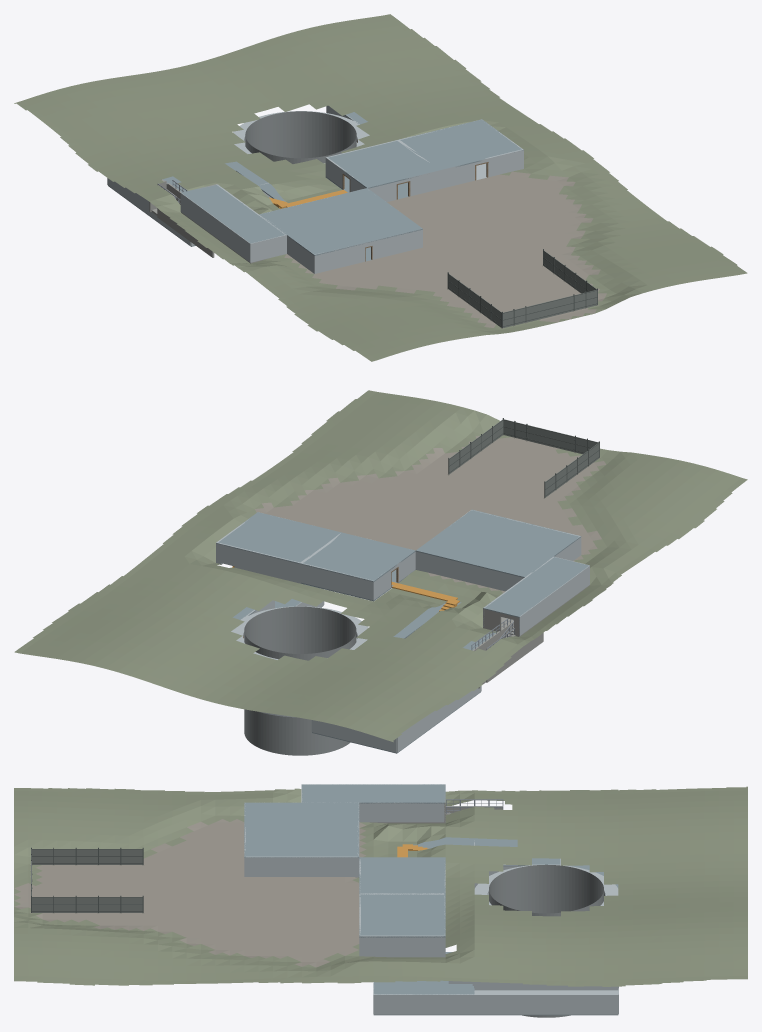
Rendered from facility.glb.
3 renders of one model, top to bottom at view 1: azimuth 30°, elevation 25°; view 2: azimuth 150°, elevation 25°; view 3: azimuth 270°, elevation 25°, orthographic. The views are drawn at different scales.
Parts seen in each view (by area): view 1: Saved editor geographic earthworks WLD-18, Ceiling cap servicehouse, EMPTY SHAFT / guard engineering pending, Ceiling cap shop, Ceiling cap head, Ceiling cap exit, Wall exit W, WLD-18 clean servicehouse S pier0, WLD-18 clean servicehouse S end, Wall exit S, WLD-18 clean shop S end, WLD-18 clean shop S pier0 (+2 smaller); view 2: Saved editor geographic earthworks WLD-18, EMPTY SHAFT / guard engineering pending, Ceiling cap servicehouse, Ceiling cap shop, Ceiling cap head, Ceiling cap exit, WLD-18 clean servicehouse N end, WLD-18 clean shop N end, WLD-18 clean head N end, Wall exit W, Wall pump N, Wall pump W (+1 smaller); view 3: Saved editor geographic earthworks WLD-18, Ceiling cap servicehouse, EMPTY SHAFT / guard engineering pending, Ceiling cap shop, Ceiling cap head, Wall east E, Ceiling cap exit, WLD-18 clean servicehouse E end, Wall plant E, WLD-18 clean shop E end, WLD-18 clean exit E pier0, Ceiling cap plant (+3 smaller).
Part boxes in pixels (x1,y1,x2,y2): Saved editor geographic earthworks WLD-18: [14, 14, 747, 361]; Ceiling cap servicehouse: [259, 188, 422, 255]; EMPTY SHAFT / guard engineering pending: [245, 111, 356, 163]; Ceiling cap shop: [398, 119, 523, 170]; Ceiling cap head: [328, 141, 438, 188]; Ceiling cap exit: [181, 184, 286, 243]; Wall exit W: [180, 193, 250, 262]; WLD-18 clean servicehouse S pier0: [313, 243, 364, 273]; WLD-18 clean servicehouse S end: [372, 229, 422, 259]; Wall exit S: [250, 234, 286, 262]; WLD-18 clean shop S end: [488, 149, 523, 177]; WLD-18 clean shop S pier0: [439, 163, 474, 188]; Saved editor geographic earthworks WLD-18: [14, 390, 747, 742]; EMPTY SHAFT / guard engineering pending: [244, 606, 356, 755]; Ceiling cap servicehouse: [415, 509, 580, 577]; Ceiling cap shop: [216, 512, 342, 564]; Ceiling cap head: [301, 533, 415, 582]; Ceiling cap exit: [483, 557, 589, 617]; WLD-18 clean servicehouse N end: [415, 551, 523, 591]; WLD-18 clean shop N end: [216, 542, 300, 582]; WLD-18 clean head N end: [301, 563, 374, 600]; Wall exit W: [519, 565, 589, 635]; Wall pump N: [311, 720, 396, 752]; Wall pump W: [397, 709, 439, 752]; Saved editor geographic earthworks WLD-18: [14, 786, 747, 986]; Ceiling cap servicehouse: [244, 802, 359, 857]; EMPTY SHAFT / guard engineering pending: [489, 864, 603, 1017]; Ceiling cap shop: [359, 894, 445, 937]; Ceiling cap head: [359, 857, 445, 893]; Wall east E: [474, 994, 618, 1014]; Ceiling cap exit: [302, 784, 445, 803]; WLD-18 clean servicehouse E end: [246, 856, 357, 876]; Wall plant E: [373, 994, 474, 1014]; WLD-18 clean shop E end: [361, 935, 443, 955]; WLD-18 clean exit E pier0: [358, 802, 445, 822]; Ceiling cap plant: [373, 952, 474, 994].
Bounding box in the file's own units: 64 × 19 × 102.
89 materials, 70 textured.
